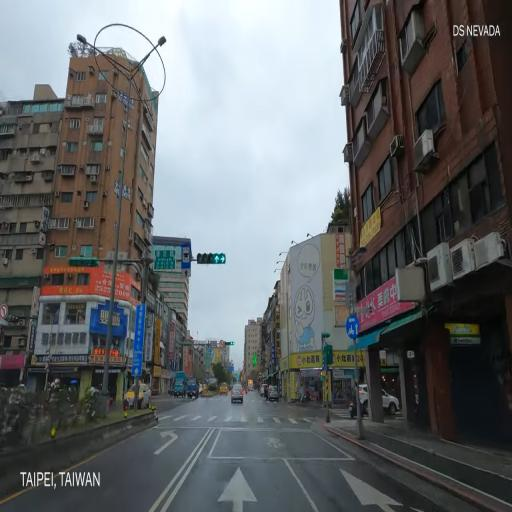Car: (348, 382, 400, 415), (122, 378, 152, 416), (185, 372, 200, 402), (172, 373, 187, 396), (232, 379, 244, 407), (268, 382, 279, 402), (247, 374, 255, 394), (259, 380, 268, 397), (219, 381, 229, 393)
